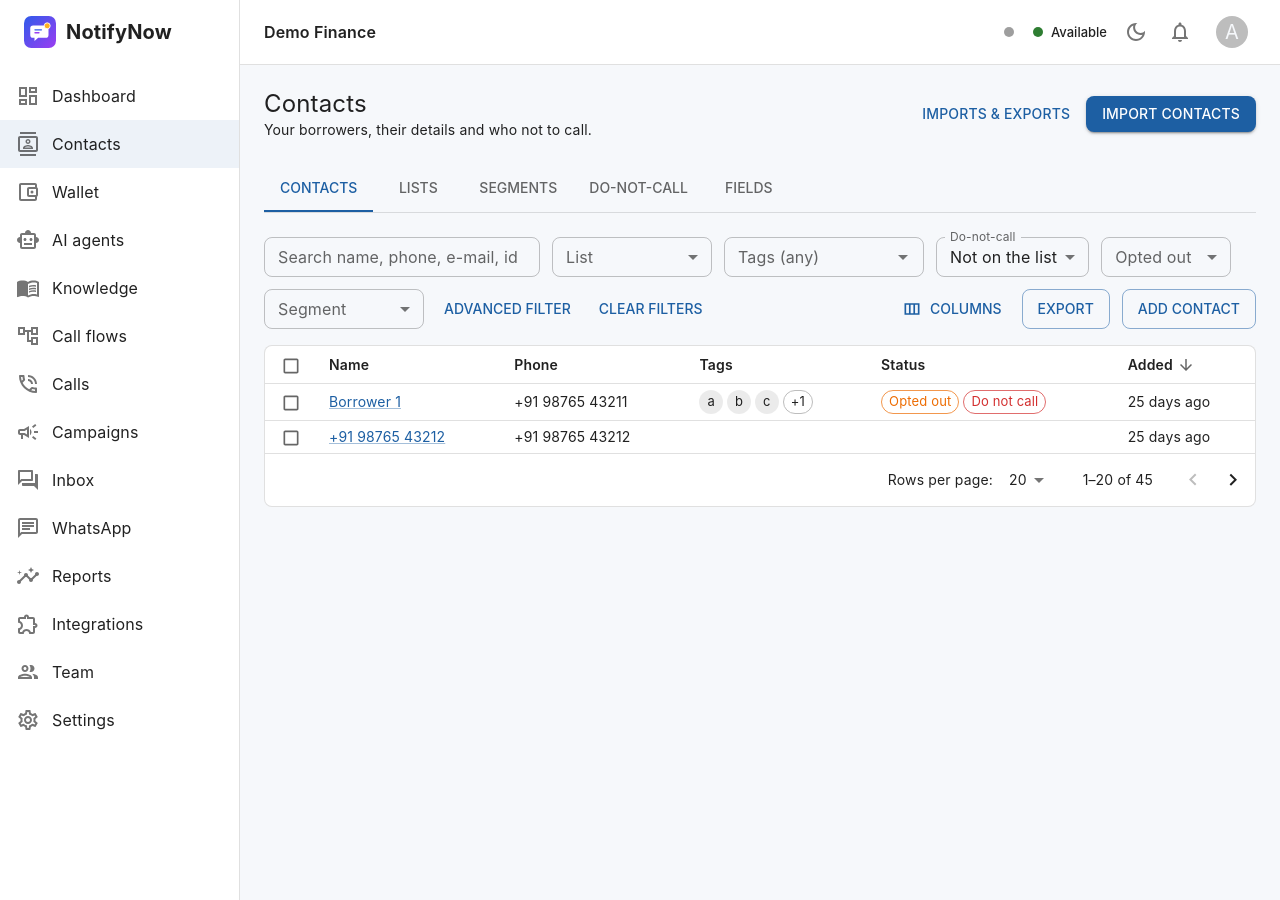
Test: bulk actions › selects all matching and deletes them in the background after confirming
What coordinates should you click on to do the following:
click the checkbox named "Select all on this page"
I would click on:
 (291, 366)
Its box is [281,356,301,376].
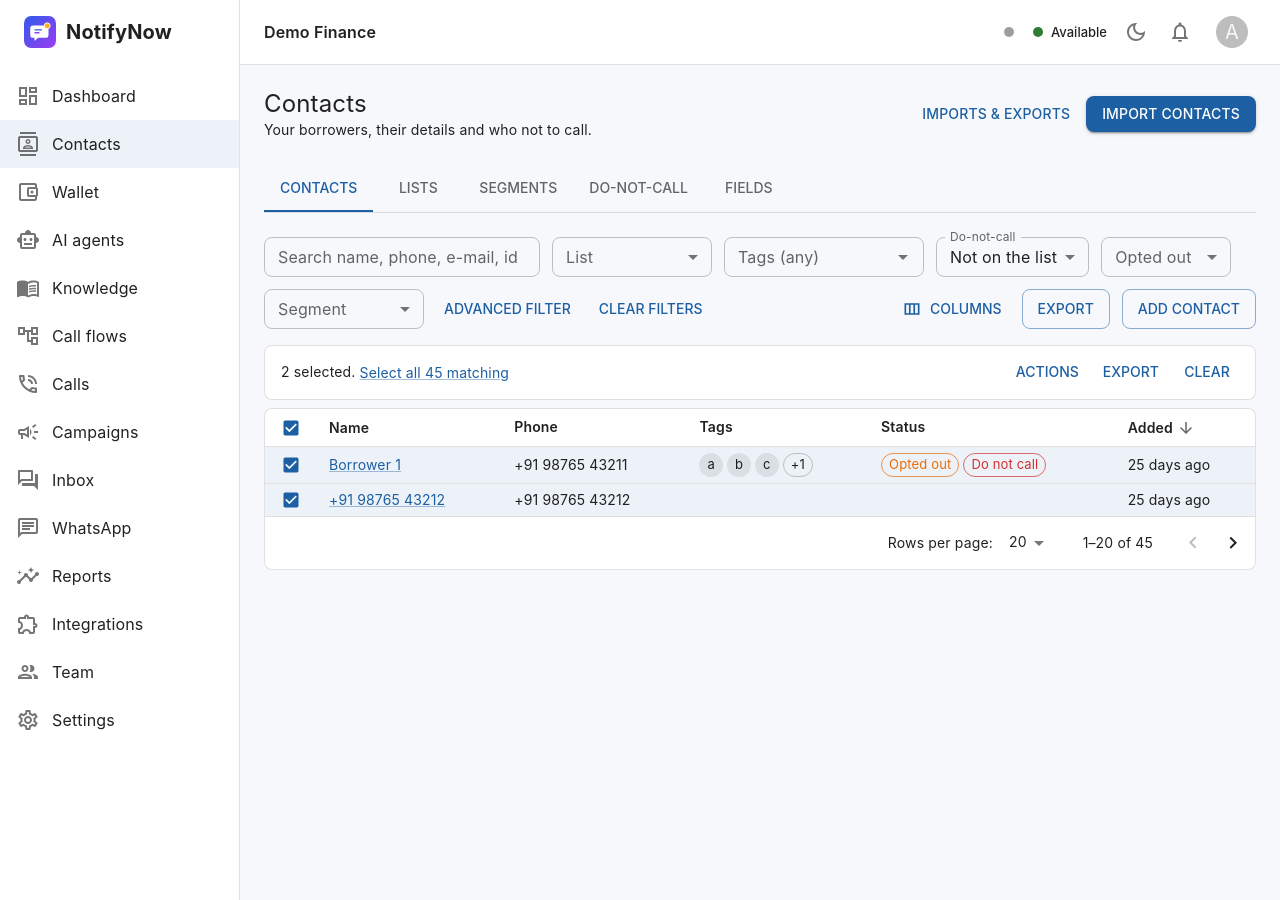
What coordinates should you click on to do the following:
click the button "Select all 45 matching"
I would click on:
 (434, 373)
Its box is [360,363,509,383].
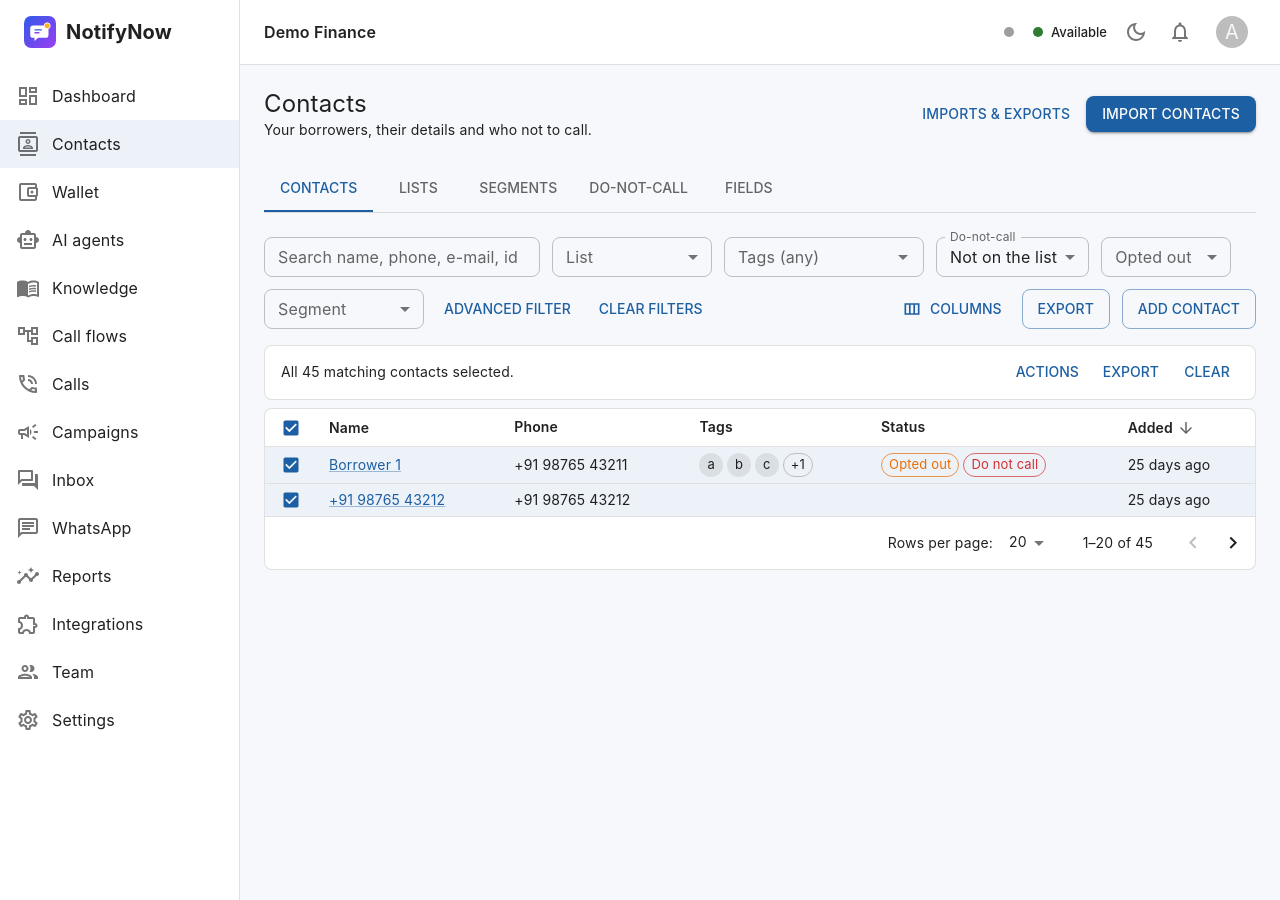
Expected: the text "All 45 matching contacts selected." is shown, [281,363,514,380]
What coordinates should you click on to do the following:
click the button "Actions"
I would click on:
 (1047, 372)
Its box is [1008,354,1087,390].
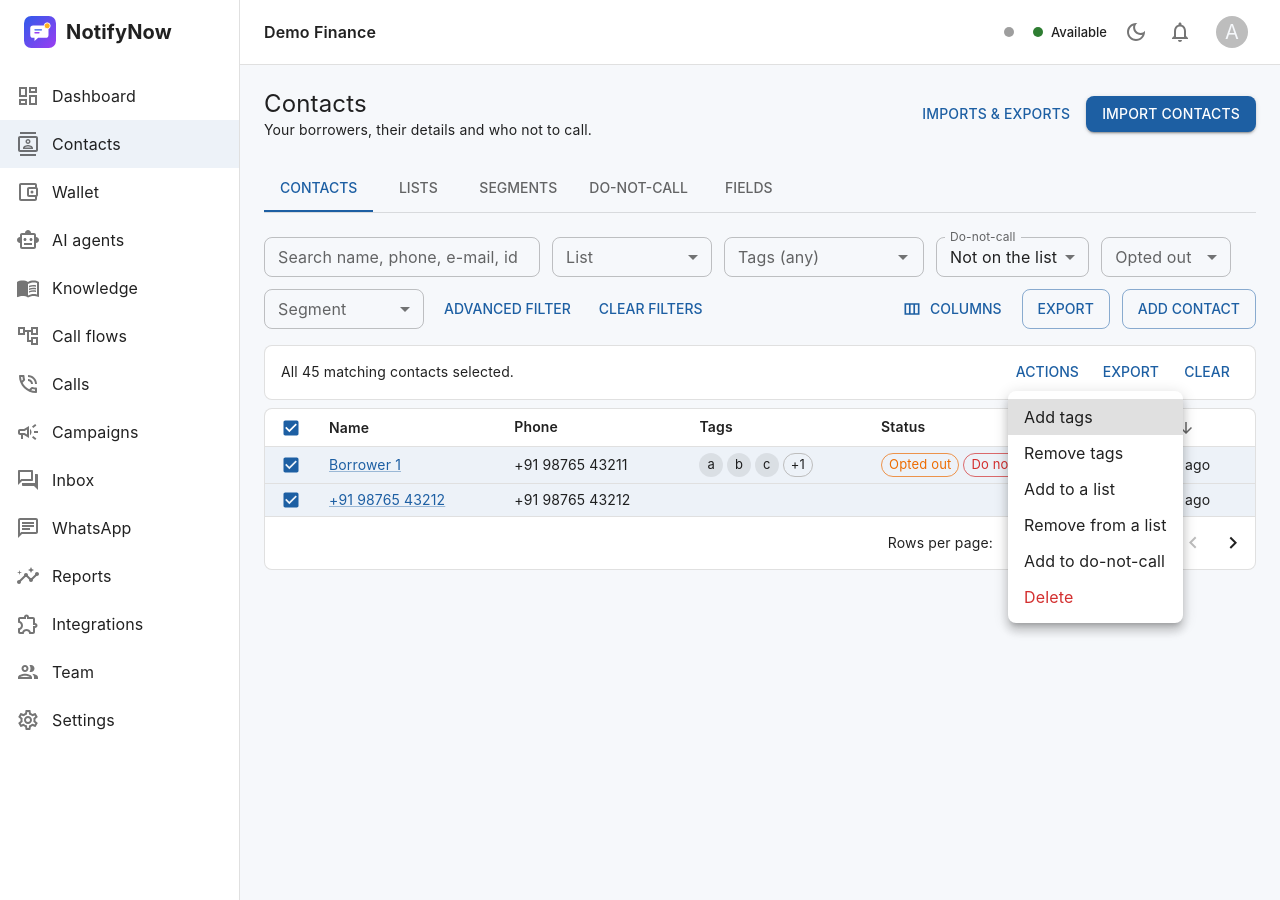
What coordinates should you click on to do the following:
click the menu item "Delete"
I would click on:
 (1049, 597)
Its box is [1024,587,1073,607].
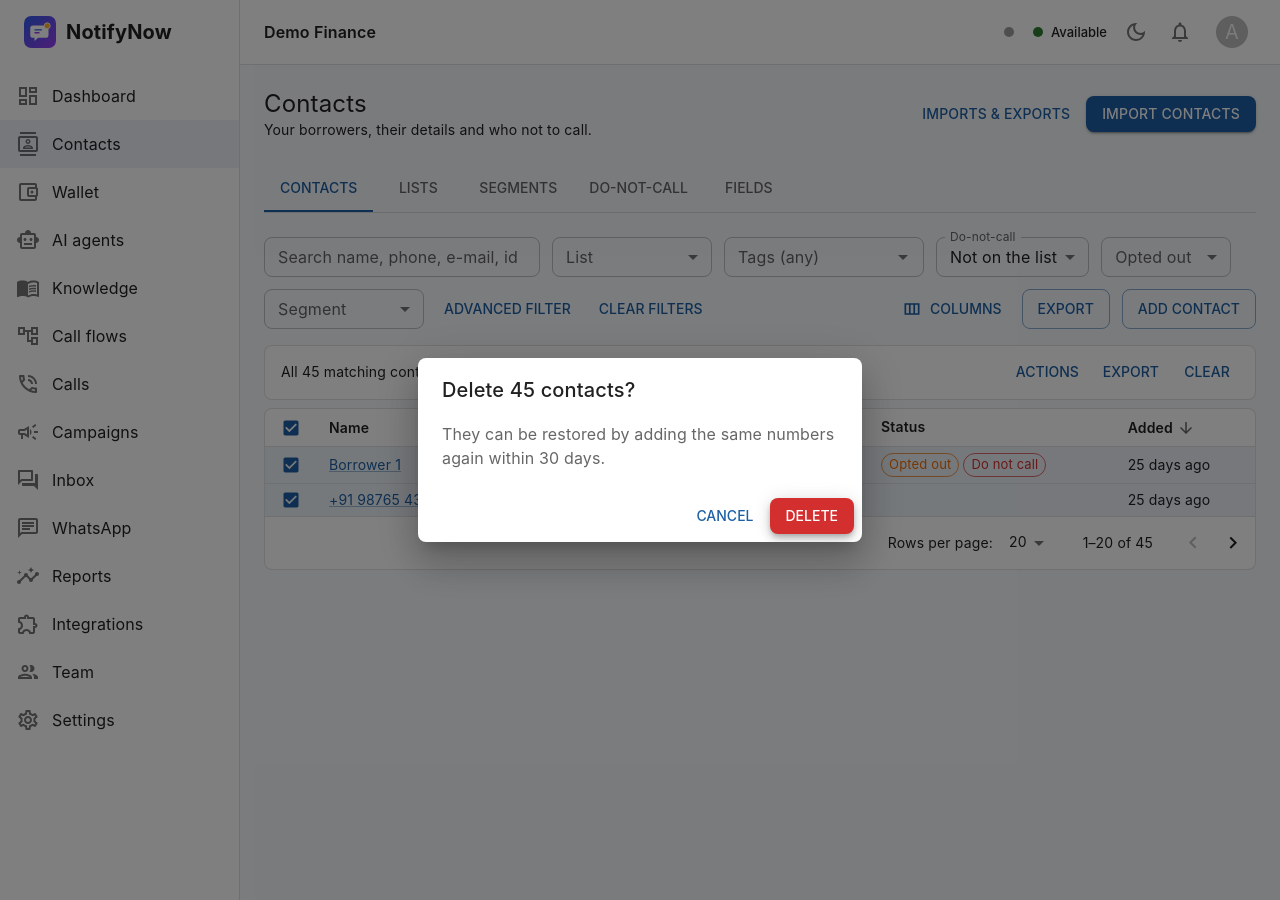
What coordinates should you click on to do the following:
click the button "Delete"
I would click on:
 (812, 516)
Its box is [770,498,854,534].
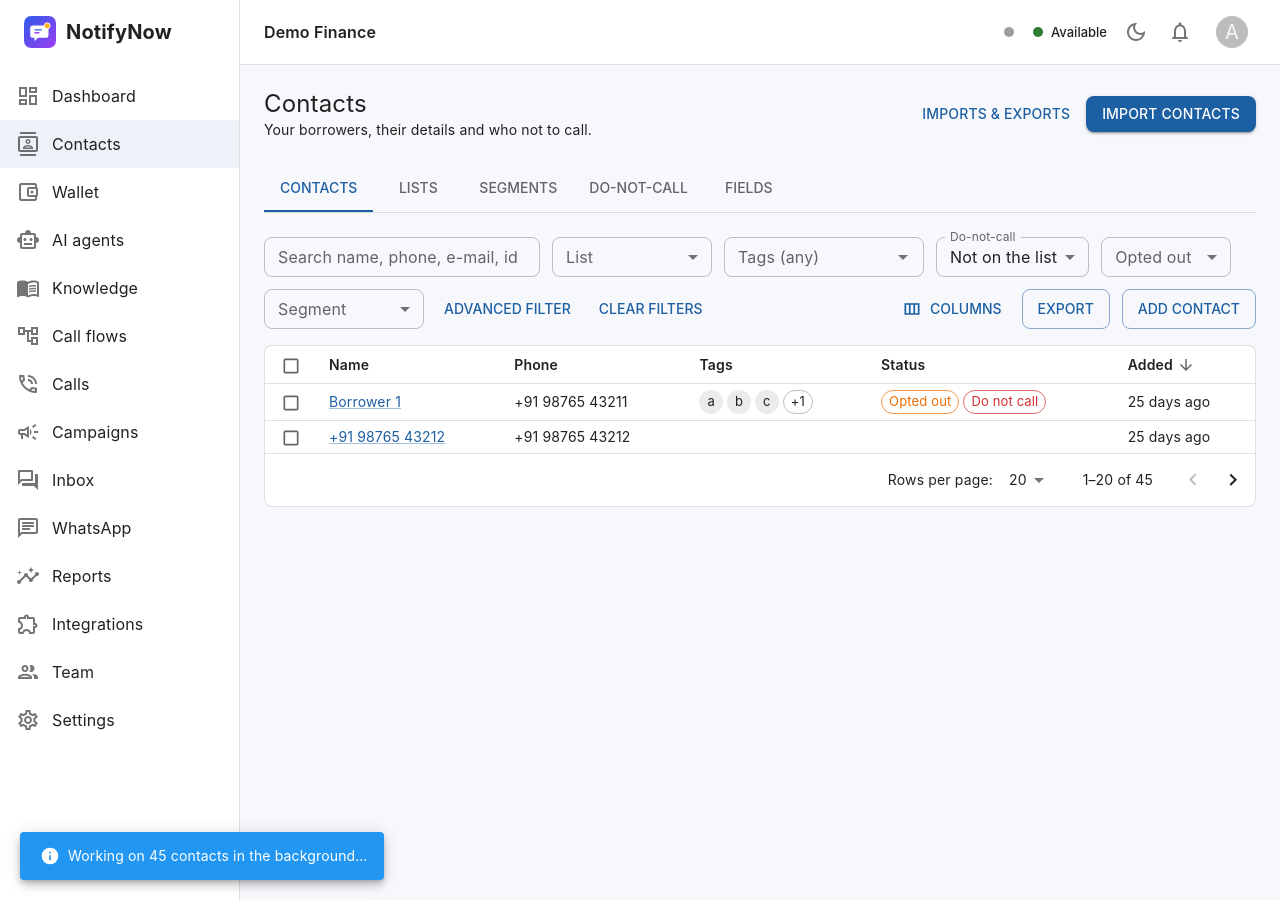
Expected: the text "Working on 45 contacts in the background…" is shown, [40,846,368,866]
